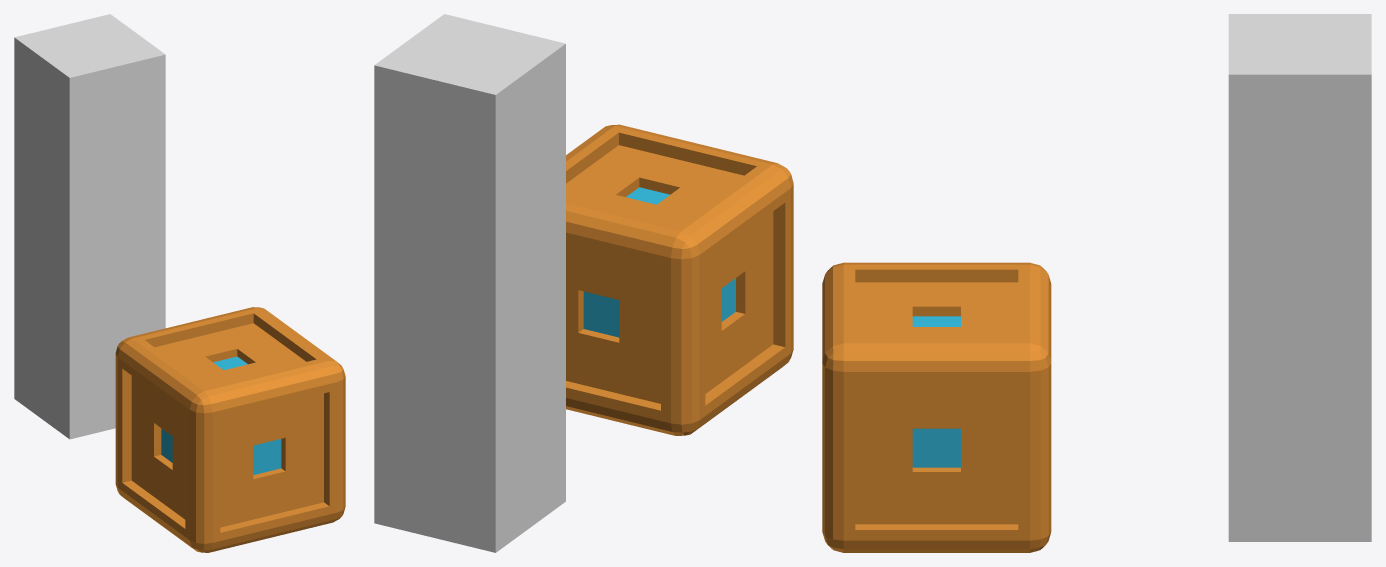
File: cubo.fbx
The picture shows the model from 3 angles, left to right: view 1: azimuth 30°, elevation 25°; view 2: azimuth 150°, elevation 25°; view 3: azimuth 270°, elevation 25°; orthographic projection. The views are drawn at different scales.
Visible parts, largest first — view 1: referencia, Cube; view 2: referencia, Cube; view 3: referencia, Cube.
Part boxes in pixels (bbox=[...]): referencia: bbox=[14, 14, 165, 439]; Cube: bbox=[115, 307, 345, 552]; referencia: bbox=[374, 14, 565, 552]; Cube: bbox=[566, 124, 793, 435]; referencia: bbox=[1228, 14, 1371, 541]; Cube: bbox=[822, 262, 1051, 552].
Size of the model in its own units: 80 by 180 by 192.
